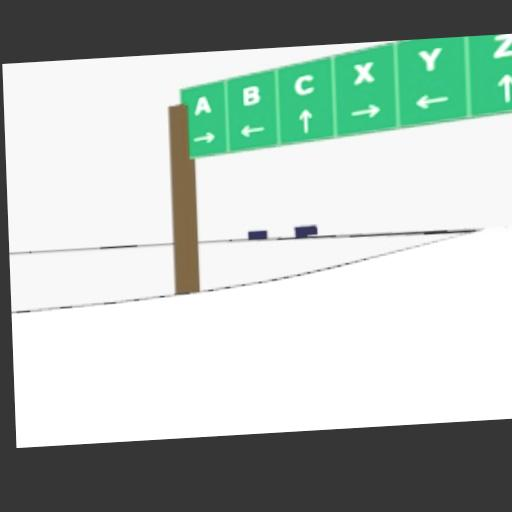A: (193, 94, 213, 116)
B: (241, 84, 261, 107)
C: (292, 73, 316, 97)
Left: (414, 91, 451, 110), (239, 123, 266, 140)
Right: (350, 102, 382, 121), (192, 131, 215, 145)
Straight: (496, 73, 512, 104), (298, 108, 313, 135)
X: (351, 59, 376, 86)
Y: (418, 46, 445, 73)
Z: (490, 34, 512, 61)
